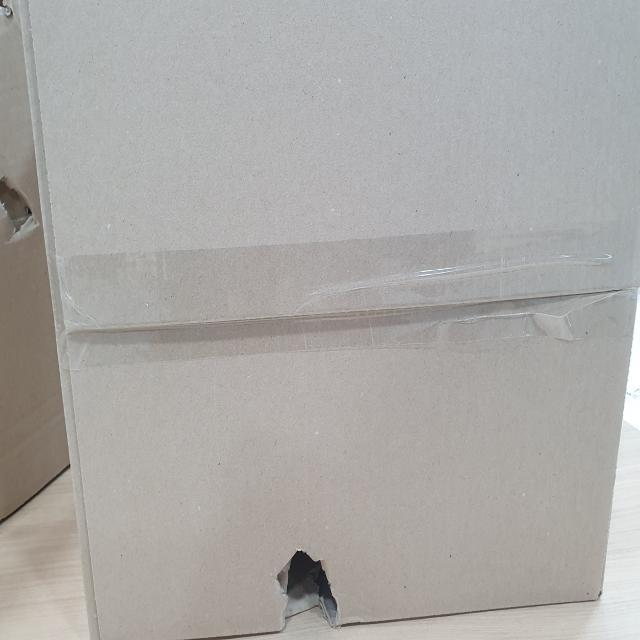hole: (264, 525, 348, 631)
